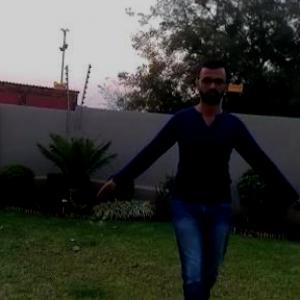land: (120, 71, 296, 299)
